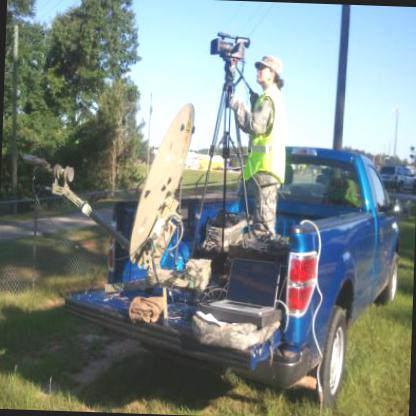truck: (218, 133, 411, 385)
